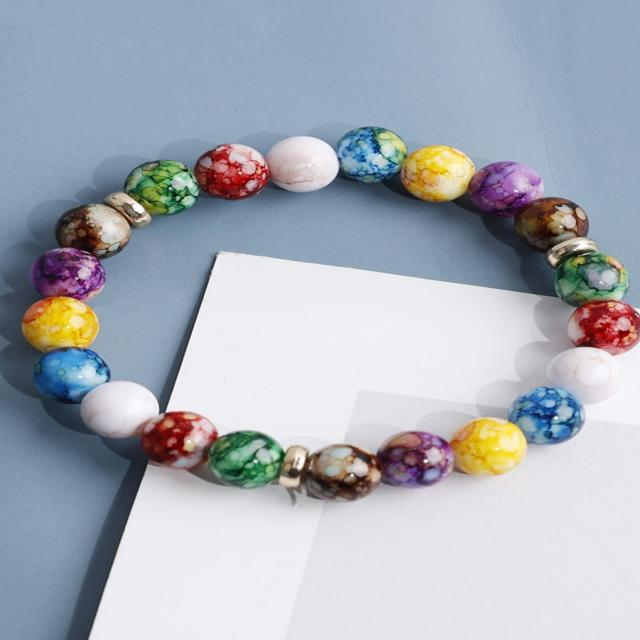bracelet: (0, 67, 640, 532)
